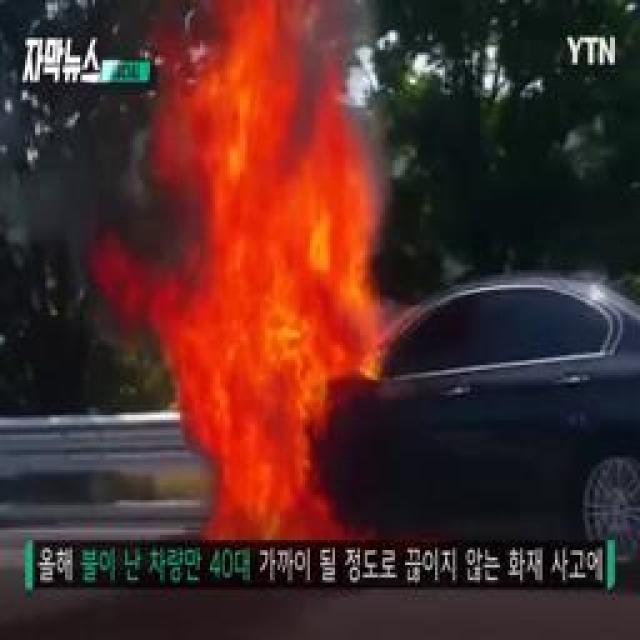Fire: (192, 8, 370, 542)
